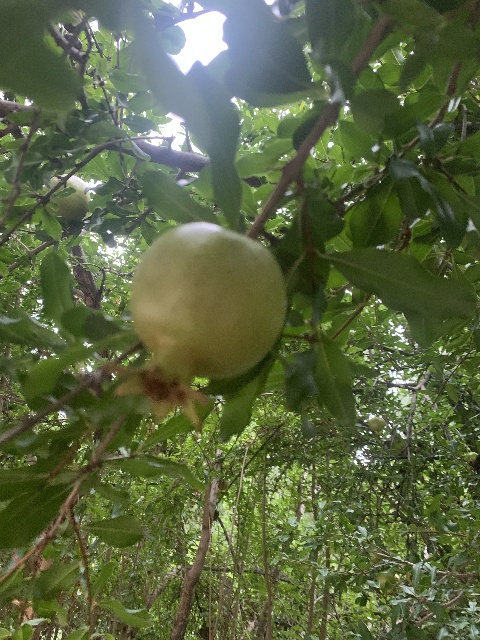mid-growth: (101, 222, 287, 431), (42, 173, 90, 224), (367, 417, 385, 436)
